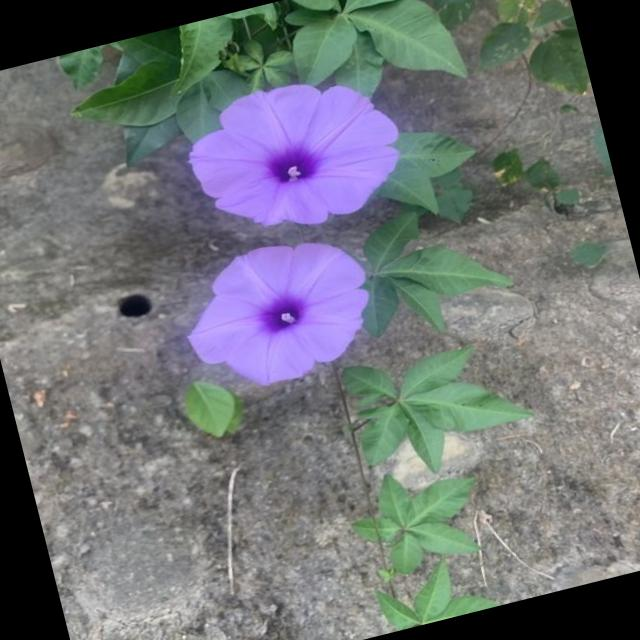ipomoea: (172, 56, 420, 254), (167, 220, 391, 404)
